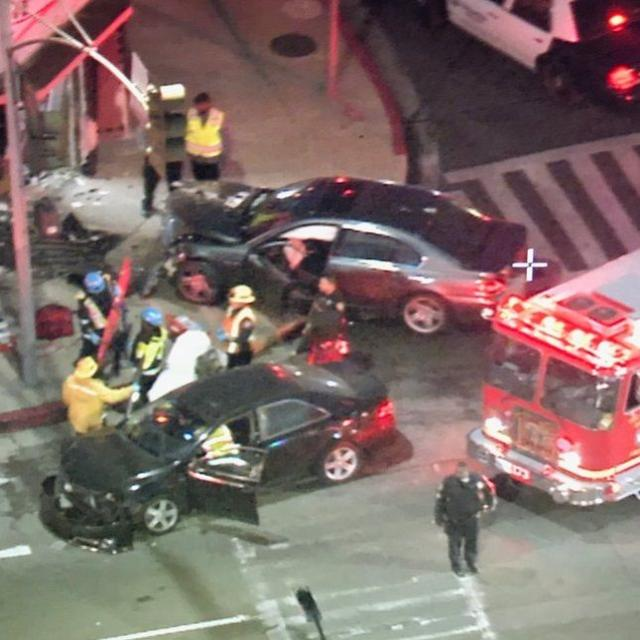traffic_incident: (49, 308, 396, 564), (149, 144, 535, 338)
